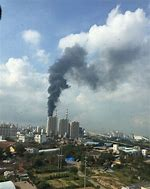smoke: (45, 46, 72, 116)
